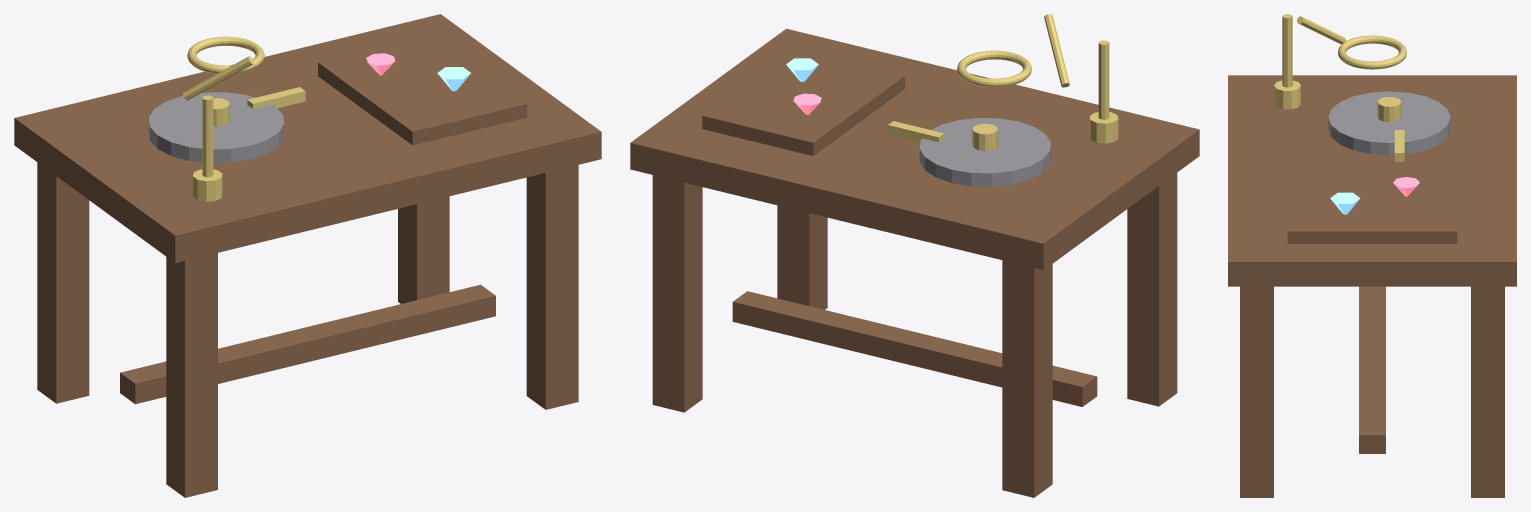
The model's file is gem_cutting_table.glb.
The picture shows the model from 3 angles, left to right: view 1: azimuth 30°, elevation 25°; view 2: azimuth 150°, elevation 25°; view 3: azimuth 270°, elevation 25°; orthographic projection. The views are drawn at different scales.
Parts seen in each view (by area): view 1: Cube, Cube.007, Cube.003, Cube.001, Cube.002, Cube.005, Cylinder, Cube.004, Torus, Cylinder.003, Cylinder.002, Cube.006 (+1 smaller); view 2: Cube, Cube.007, Cube.002, Cube.004, Cube.005, Cube.001, Cylinder, Cube.003, Torus, Cylinder.003, Cylinder.002, Cube.006 (+2 smaller); view 3: Cube, Cube.007, Cube.003, Cube.004, Cylinder, Cube.005, Torus, Cylinder.003, Cylinder.002, Cylinder.001, Cylinder.004, Cone.001 (+2 smaller).
Boxes of the visible parts, x1,y1,x2,y2 form: Cube: (14,14,601,262); Cube.007: (318,34,527,145); Cube.003: (526,165,578,409); Cube.001: (166,253,217,497); Cube.002: (37,162,89,403); Cube.005: (120,284,495,404); Cylinder: (148,92,284,162); Cube.004: (398,196,449,303); Torus: (187,36,264,73); Cylinder.003: (202,95,213,177); Cylinder.002: (193,169,222,201); Cube.006: (247,87,305,108); Cube: (630,28,1199,270); Cube.007: (702,48,905,155); Cube.002: (1002,260,1052,497); Cube.004: (652,175,702,412); Cube.005: (732,291,1097,406); Cube.001: (1127,173,1177,406); Cylinder: (919,118,1050,186); Cube.003: (777,205,827,309); Torus: (957,50,1031,87); Cylinder.003: (1098,40,1109,119); Cylinder.002: (1089,112,1118,143); Cube.006: (888,121,944,142); Cube: (1228,75,1516,286); Cube.007: (1287,181,1457,243); Cube.003: (1240,286,1273,497); Cube.004: (1471,286,1504,497); Cylinder: (1328,91,1450,155); Cube.005: (1359,286,1385,453); Torus: (1338,35,1406,69); Cylinder.003: (1282,14,1292,87); Cylinder.002: (1274,80,1300,109); Cylinder.001: (1377,97,1401,122); Cylinder.004: (1297,16,1346,44); Cone.001: (1330,192,1360,214).
Bounding box in the file's own units: 1.3 × 1.14 × 0.85.
